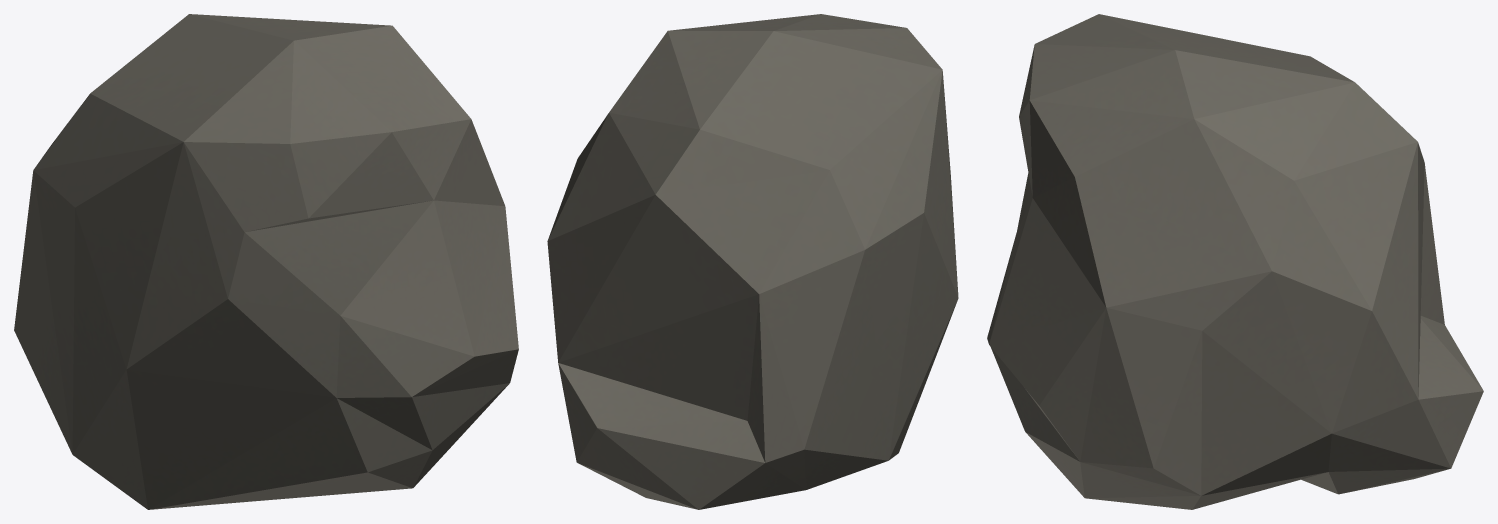
Rendered from Rock_3.fbx.
3 renders of one model, left to right at view 1: azimuth 30°, elevation 25°; view 2: azimuth 150°, elevation 25°; view 3: azimuth 270°, elevation 25°, orthographic. The views are drawn at different scales.
Visible parts, largest first — view 1: Group47119; view 2: Group47119; view 3: Group47119.
Boxes of the visible parts, <box> form: Group47119: <box>14,14,518,509</box>; Group47119: <box>547,14,958,509</box>; Group47119: <box>987,14,1483,509</box>.
Bounding box in the file's own units: 427 × 462 × 488.
Materials: 1 (1 with a texture image).
